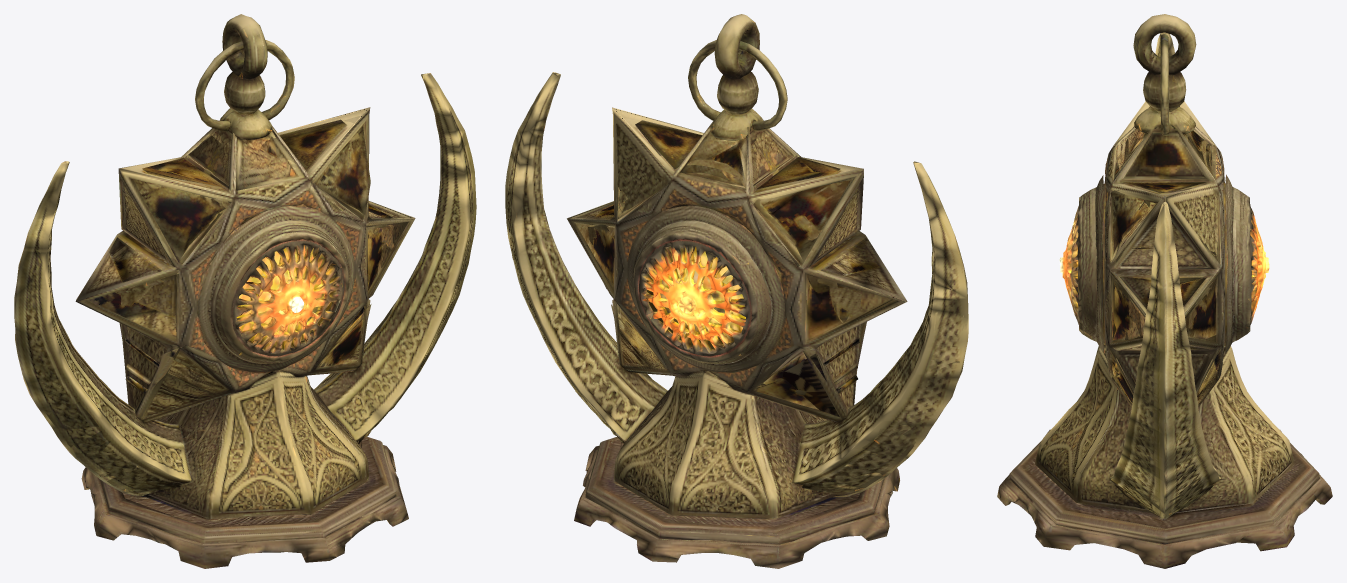
File: Meshy_AI_Golden_Crescent_Star__0721143705_texture.fbx
3 views of the same model, side by side, from view 1: azimuth 30°, elevation 25°; view 2: azimuth 150°, elevation 25°; view 3: azimuth 270°, elevation 25° (orthographic).
Parts seen in each view (by area): view 1: Mesh_0; view 2: Mesh_0; view 3: Mesh_0.
Boxes of the visible parts, <box> form: Mesh_0: <box>14,14,476,568</box>; Mesh_0: <box>505,14,968,568</box>; Mesh_0: <box>997,14,1332,568</box>.
Bounding box in the file's own units: 99.61 × 100 × 62.89.
Materials: 1 (1 with a texture image).
